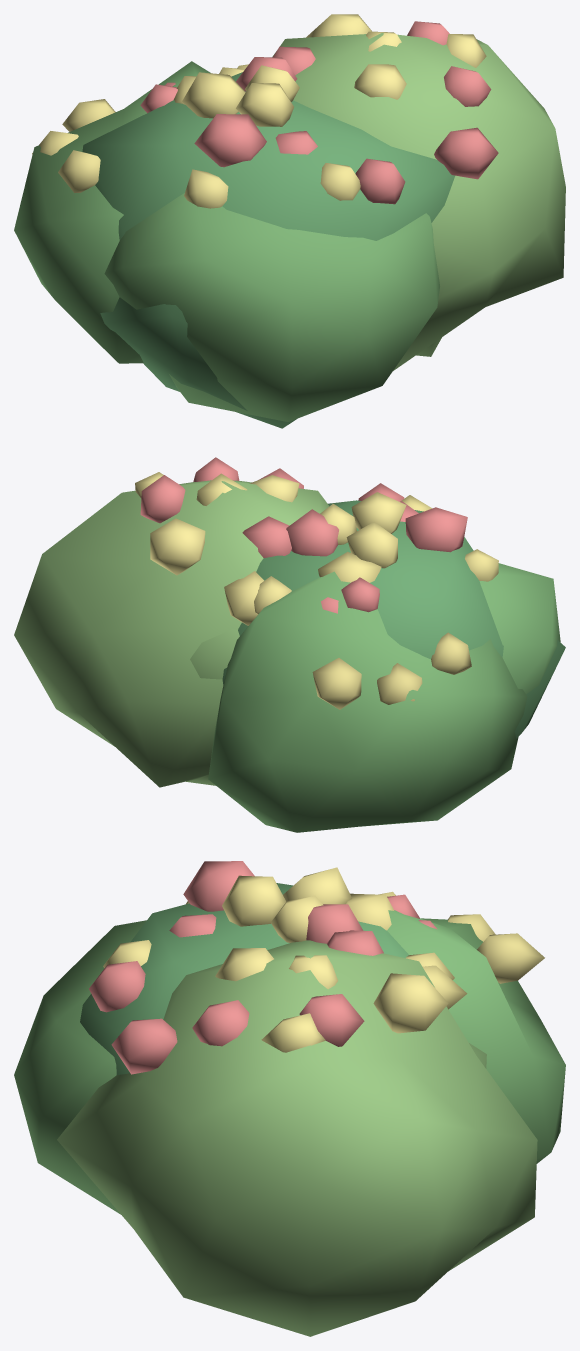
The model's file is busch_3.glb.
The picture shows the model from 3 angles, top to bottom: view 1: azimuth 30°, elevation 25°; view 2: azimuth 150°, elevation 25°; view 3: azimuth 270°, elevation 25°; orthographic projection. The views are drawn at different scales.
Visible parts, largest first — view 1: G_busch_3; view 2: G_busch_3; view 3: G_busch_3.
Boxes of the visible parts, x1,y1,x2,y2 form: G_busch_3: (14, 14, 565, 428); G_busch_3: (14, 457, 565, 832); G_busch_3: (14, 861, 565, 1336).
Bounding box in the file's own units: 2.31 × 1.44 × 2.01.
